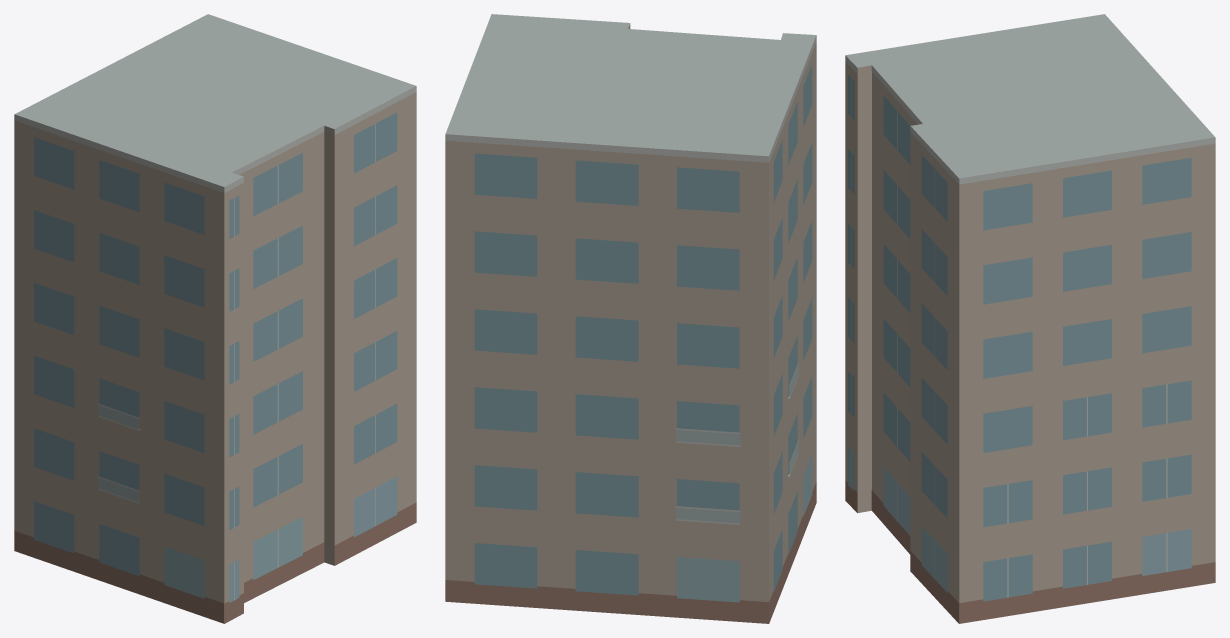
Rendered from survey-upis-33033174.glb.
3 renders of one model, left to right at view 1: azimuth 30°, elevation 25°; view 2: azimuth 150°, elevation 25°; view 3: azimuth 270°, elevation 25°, orthographic. The views are drawn at different scales.
Visible parts, largest first — view 1: survey-upis-33033174.tmp; view 2: survey-upis-33033174.tmp; view 3: survey-upis-33033174.tmp.
Part boxes in pixels (x1,y1,x2,y2): survey-upis-33033174.tmp: [14, 14, 416, 623]; survey-upis-33033174.tmp: [445, 14, 816, 623]; survey-upis-33033174.tmp: [845, 14, 1215, 623].
Bounding box in the file's own units: 14.03 × 17.7 × 13.35.
